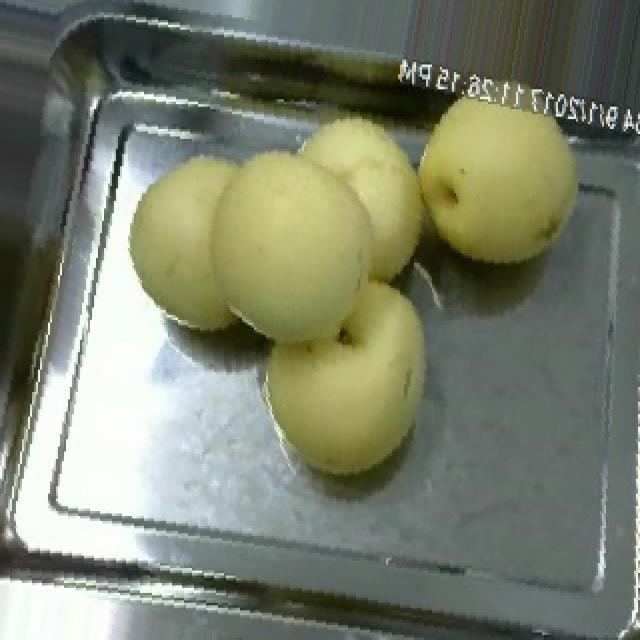Fruit: (110, 106, 442, 370), (242, 263, 444, 494), (398, 69, 598, 278)
